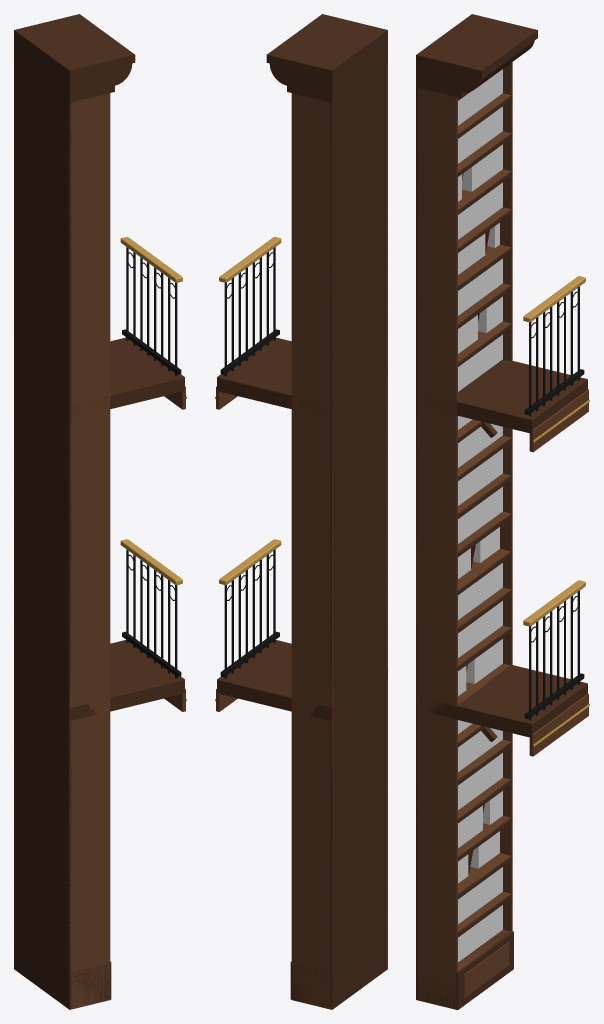
The model's file is library_wall.glb.
The picture shows the model from 3 angles, left to right: view 1: azimuth 30°, elevation 25°; view 2: azimuth 150°, elevation 25°; view 3: azimuth 330°, elevation 25°; orthographic projection.
Visible parts, largest first — view 1: rueck.002, rueck.001, rueck, seite_a.001, seite_a.002, seite_a, gesims, galerie, galerie.001, sockel, handlauf, handlauf.001 (+2 smaller); view 2: rueck.002, rueck.001, rueck, seite_b.001, seite_b.002, seite_b, gesims, galerie, galerie.001, sockel, handlauf, handlauf.001 (+5 smaller); view 3: seite_a.001, seite_a.002, seite_a, gesims, galerie.001, galerie, seite_b.002, seite_b.001, sockel, seite_b, stirn.001, stirn (+46 smaller).
Part boxes in pixels (x1,y1,x2,y2): rueck.002: (14, 62, 71, 404); rueck.001: (14, 365, 71, 706); rueck: (14, 667, 71, 1009); seite_a.001: (68, 395, 110, 707); seite_a.002: (68, 93, 110, 404); seite_a: (68, 698, 110, 1009); gesims: (14, 14, 135, 102); galerie: (14, 640, 184, 720); galerie.001: (21, 337, 184, 417); sockel: (14, 933, 111, 1004); handlauf: (120, 539, 182, 585); handlauf.001: (120, 237, 182, 282); rueck.002: (330, 62, 387, 404); rueck.001: (330, 365, 387, 706); rueck: (330, 667, 387, 1009); seite_b.001: (291, 395, 333, 707); seite_b.002: (291, 93, 333, 404); seite_b: (291, 698, 333, 1009); gesims: (266, 14, 387, 102); galerie: (217, 640, 387, 720); galerie.001: (217, 337, 387, 417); sockel: (290, 933, 387, 1007); handlauf: (219, 539, 281, 585); handlauf.001: (219, 237, 281, 282); seite_a.001: (416, 392, 457, 705); seite_a.002: (416, 88, 457, 401); seite_a: (416, 696, 457, 1009); gesims: (416, 14, 537, 98); galerie.001: (417, 359, 587, 433); galerie: (424, 665, 587, 737); seite_b.002: (500, 62, 512, 361); seite_b.001: (500, 427, 512, 665); sockel: (417, 930, 513, 1009); seite_b: (500, 731, 512, 931); stirn.001: (529, 389, 588, 452); stirn: (529, 693, 588, 756).
Size of the model in its own units: 1.22 by 9.32 by 1.
